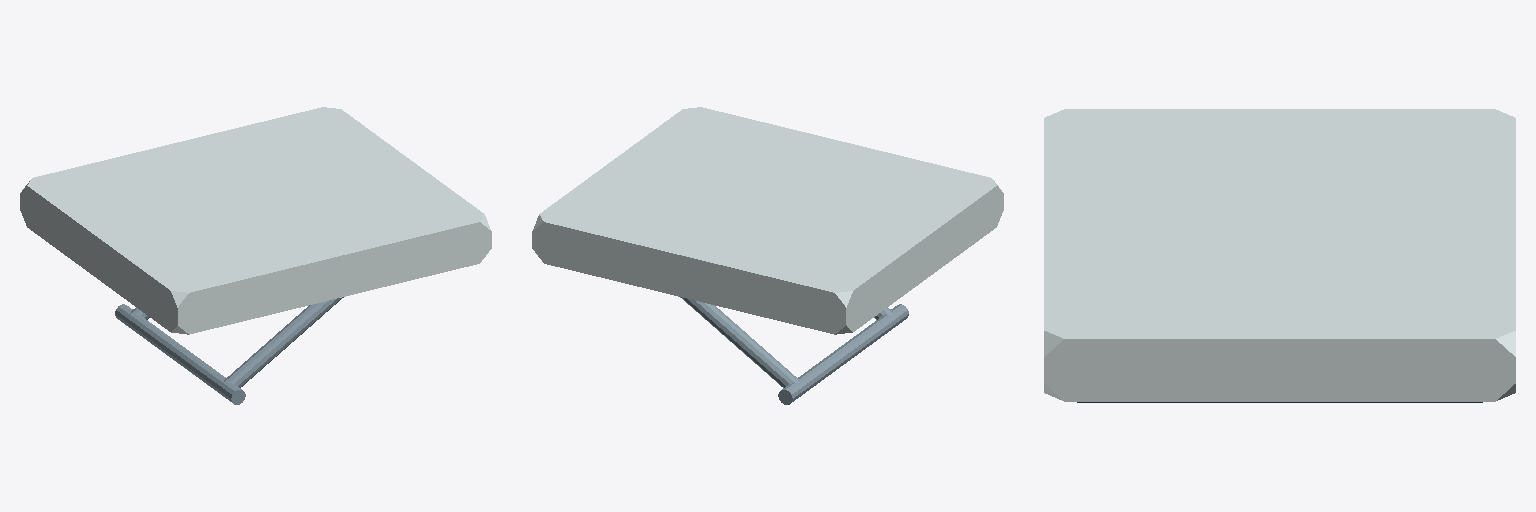
The robot description file, URDF, robot "starlink_mini":
<?xml version="1.0"?>
<!-- Visual description only. Fixed placements are source estimates, not measured extrinsics. -->
<robot name="starlink_mini">
<link name="base_link"/>
<link name="starlink_panel_concept"><visual><geometry><mesh filename="package://usv_rov_description/meshes/starlink_mini/starlink_panel_concept.dae"/></geometry></visual></link><joint name="starlink_panel_concept_fixed" type="fixed"><parent link="base_link"/><child link="starlink_panel_concept"/><origin xyz="0 0 0" rpy="0 0 0"/></joint>
<link name="starlink_mount_concept"><visual><geometry><mesh filename="package://usv_rov_description/meshes/starlink_mini/starlink_mount_concept.dae"/></geometry></visual></link><joint name="starlink_mount_concept_fixed" type="fixed"><parent link="base_link"/><child link="starlink_mount_concept"/><origin xyz="0 0 0" rpy="0 0 0"/></joint>
</robot>

--- What the picture shows (computed from the rendered views, not written in the file) ---
The picture shows the robot from 3 angles, left to right: view 1: azimuth 30°, elevation 25°; view 2: azimuth 150°, elevation 25°; view 3: azimuth 270°, elevation 25°; orthographic projection.
Model starlink_mini with 3 links and 2 joints (2 fixed), rooted at base_link, posed every joint at zero.
Visible links, largest first — view 1: starlink_panel_concept, starlink_mount_concept; view 2: starlink_panel_concept, starlink_mount_concept; view 3: starlink_panel_concept.
Boxes of the visible links, box(x1,y1,x2,y2) form: starlink_panel_concept: box(20, 107, 491, 334); starlink_mount_concept: box(115, 297, 343, 404); starlink_panel_concept: box(532, 107, 1003, 334); starlink_mount_concept: box(680, 297, 908, 404); starlink_panel_concept: box(1044, 109, 1515, 402).
Size in the robot's own frame: 0.299 by 0.259 by 0.131 metres.
Meshes: 2 distinct files referenced, 2 mesh visuals loaded (2 Collada DAE).
